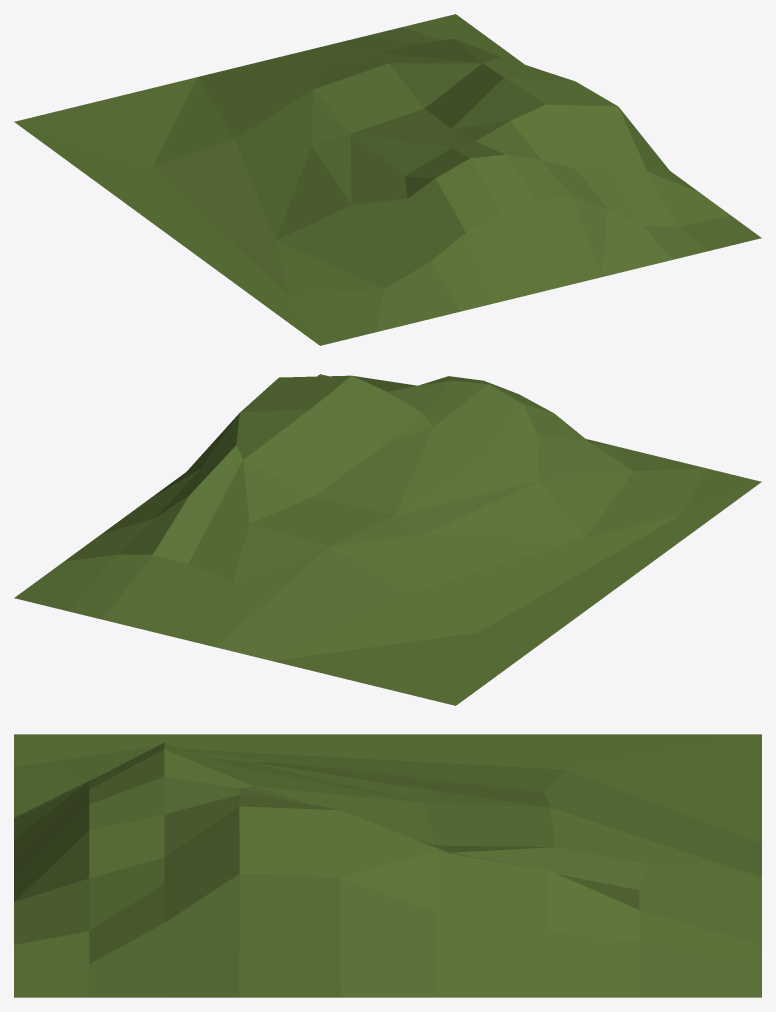
Rendered from LightVegetationFloorLargeMound1.fbx.
3 renders of one model, top to bottom at view 1: azimuth 30°, elevation 25°; view 2: azimuth 150°, elevation 25°; view 3: azimuth 270°, elevation 25°, orthographic. The views are drawn at different scales.
Visible parts, largest first — view 1: LightVegetationFloorLargeMound1; view 2: LightVegetationFloorLargeMound1; view 3: LightVegetationFloorLargeMound1.
Part boxes in pixels (x1,y1,x2,y2): LightVegetationFloorLargeMound1: (14, 14, 761, 345); LightVegetationFloorLargeMound1: (14, 374, 761, 705); LightVegetationFloorLargeMound1: (14, 734, 761, 997).
Bounding box in the file's own units: 1000 × 208 × 1200.
